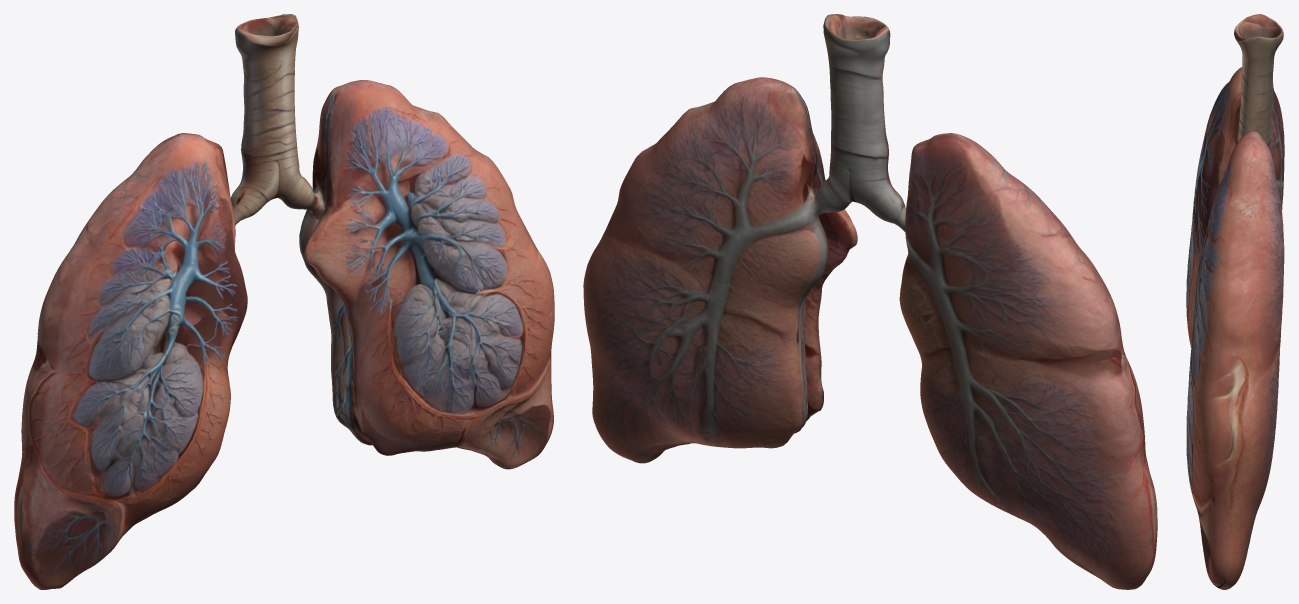
The model's file is human-lungs.glb.
3 renders of one model, left to right at view 1: azimuth 30°, elevation 25°; view 2: azimuth 150°, elevation 25°; view 3: azimuth 270°, elevation 25°, orthographic. The views are drawn at different scales.
Visible parts, largest first — view 1: Stylized Human Lungs_0; view 2: Stylized Human Lungs_0; view 3: Stylized Human Lungs_0.
Part boxes in pixels (x1,y1,x2,y2): Stylized Human Lungs_0: (14, 14, 554, 589); Stylized Human Lungs_0: (583, 14, 1157, 589); Stylized Human Lungs_0: (1186, 14, 1284, 589).
Bounding box in the file's own units: 0.4106 × 0.365 × 0.0697.
1 material, 1 textured.
